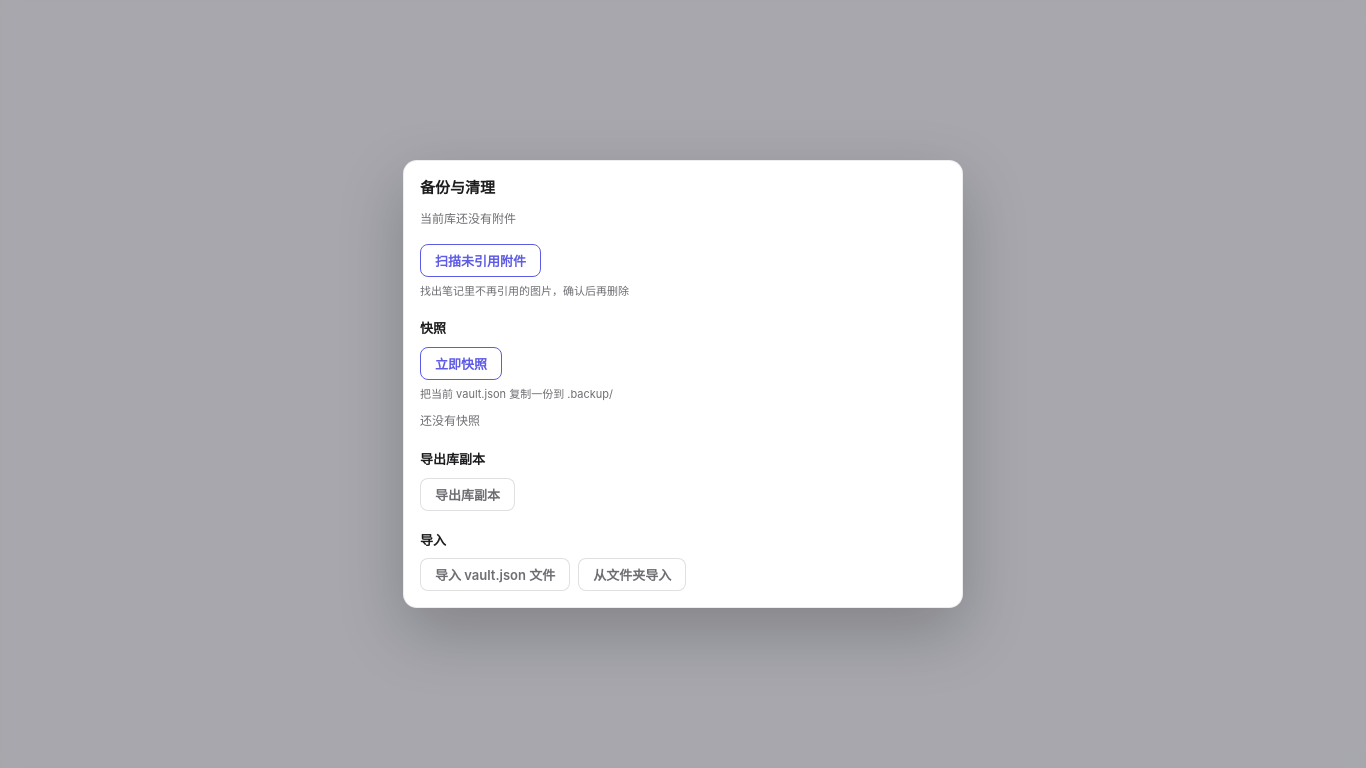
Test: T28-1 · 快照列表 / 立即快照 › 点「立即快照」调 snapshot()，随后刷新列表
Click the button with test id "backup-snapshot-now". click: (461, 363)
box: [420,346,502,380]
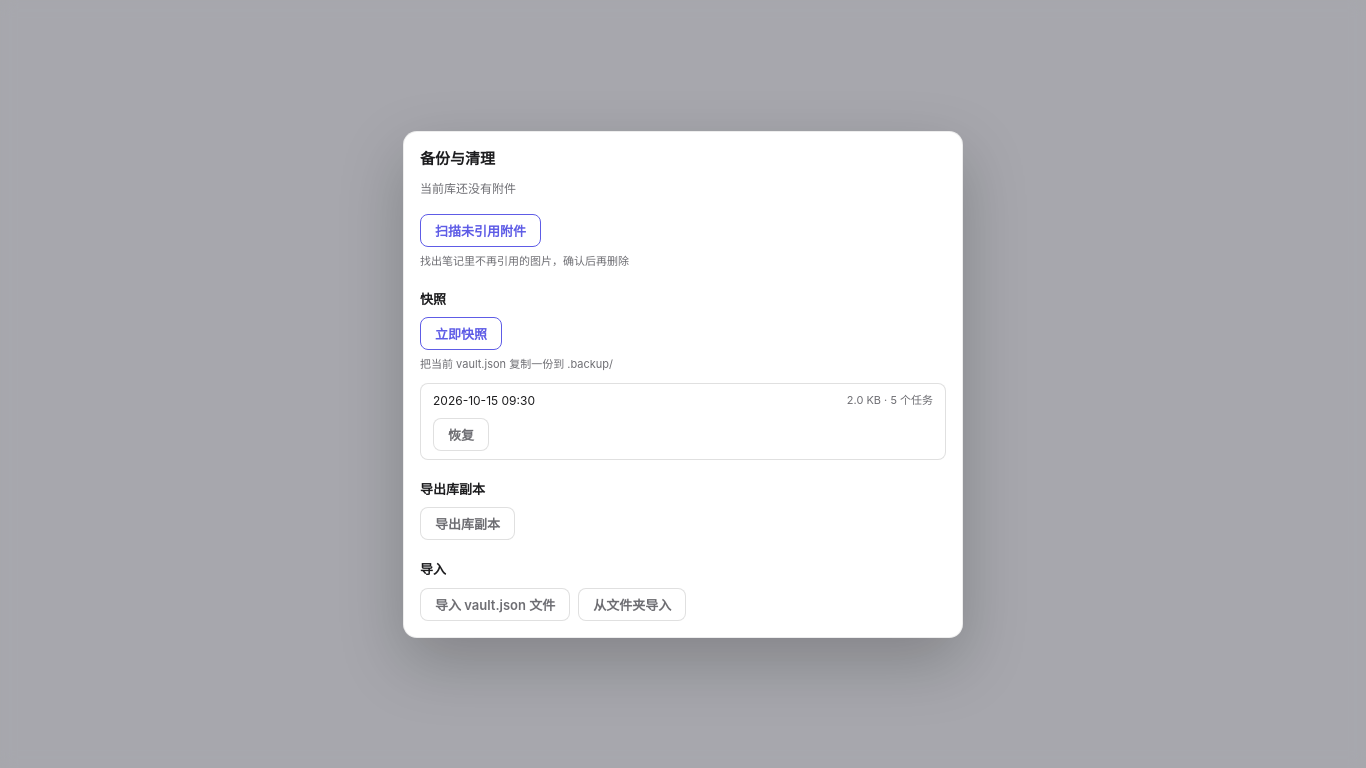
Expected: the element with test id "backup-snapshot-item-vault-1.json" is shown, [420,382,946,460]
